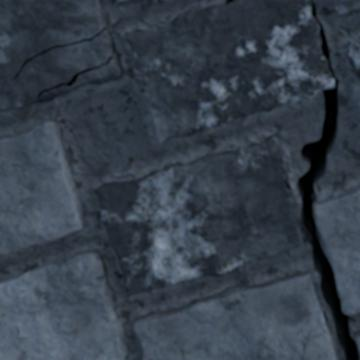brick: (95, 137, 306, 298), (123, 0, 334, 142), (134, 271, 337, 359), (0, 252, 129, 359), (0, 0, 123, 110), (0, 122, 86, 255), (314, 187, 359, 313), (334, 0, 359, 17), (349, 42, 359, 77), (118, 0, 142, 4), (356, 331, 359, 350)
crack: (282, 1, 359, 359), (13, 27, 108, 81), (37, 56, 113, 103), (225, 0, 238, 6)
